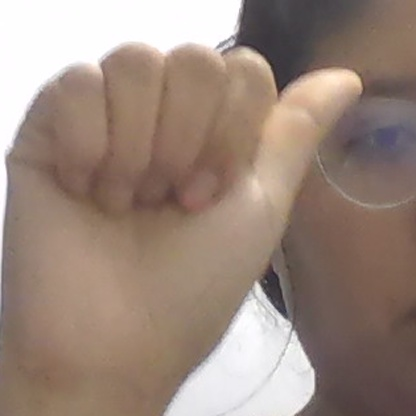A: (0, 44, 362, 395)
